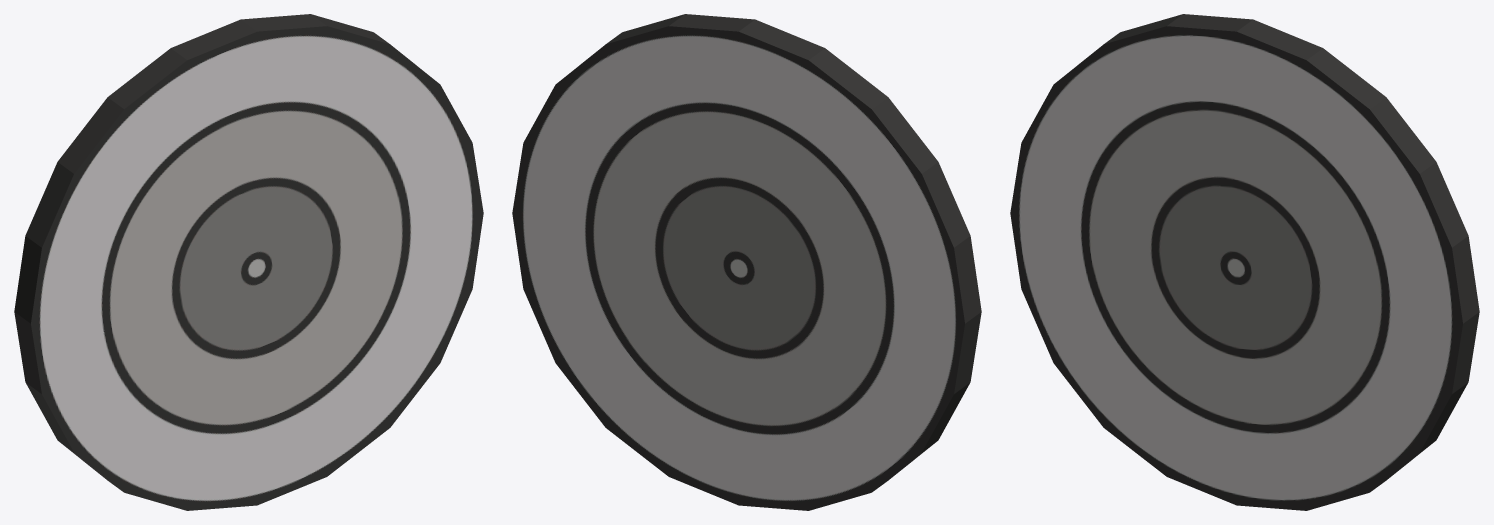
Rendered from target.glb.
3 renders of one model, left to right at view 1: azimuth 30°, elevation 25°; view 2: azimuth 150°, elevation 25°; view 3: azimuth 330°, elevation 25°, orthographic.
Visible parts, largest first — view 1: Paintball_Target; view 2: Paintball_Target; view 3: Paintball_Target.
Boxes of the visible parts, left/top/right/bottom form: Paintball_Target: left=14, top=14, right=483, bottom=510; Paintball_Target: left=512, top=14, right=981, bottom=510; Paintball_Target: left=1010, top=14, right=1479, bottom=510.
Bounding box in the file's own units: 1.25 × 1.25 × 0.0791.
Materials: 1 (1 with a texture image).
